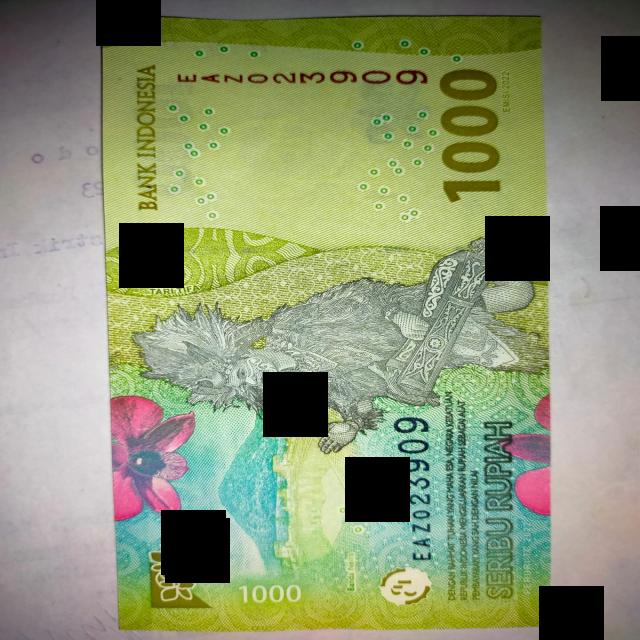seribu rupiah: (102, 16, 550, 631)
